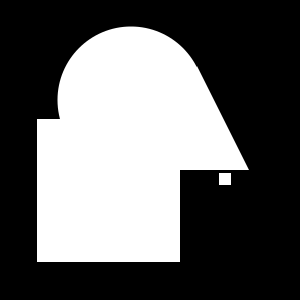circle: (37, 119, 180, 262), (219, 173, 231, 185)
rectangle: (57, 26, 204, 174), (54, 150, 66, 160)
triangle: (145, 66, 249, 170)
